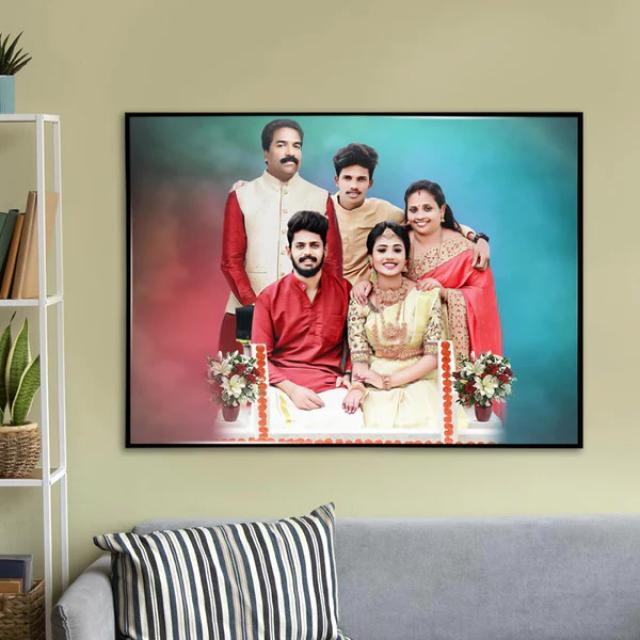painting: (126, 110, 584, 448)
